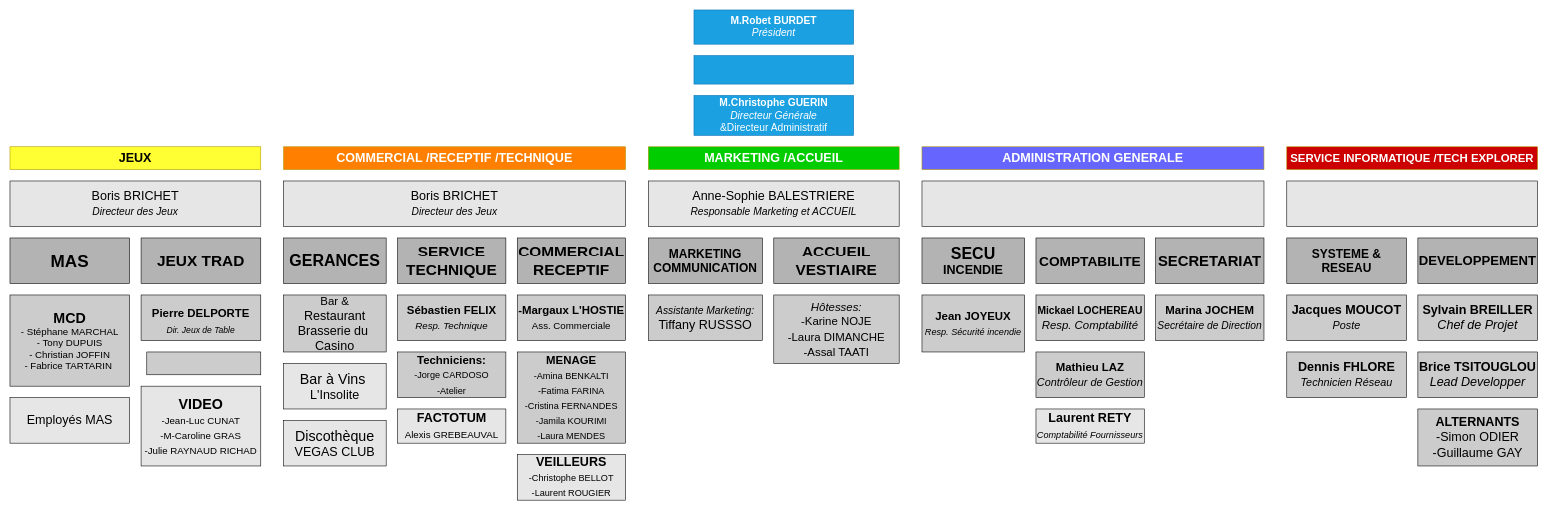
This 1548x510 diagram has some shape labels left out. Each missing label, with the centre of its shape:
Conseil d'Administration: [773,69]
Employés JEUX: [203,363]
